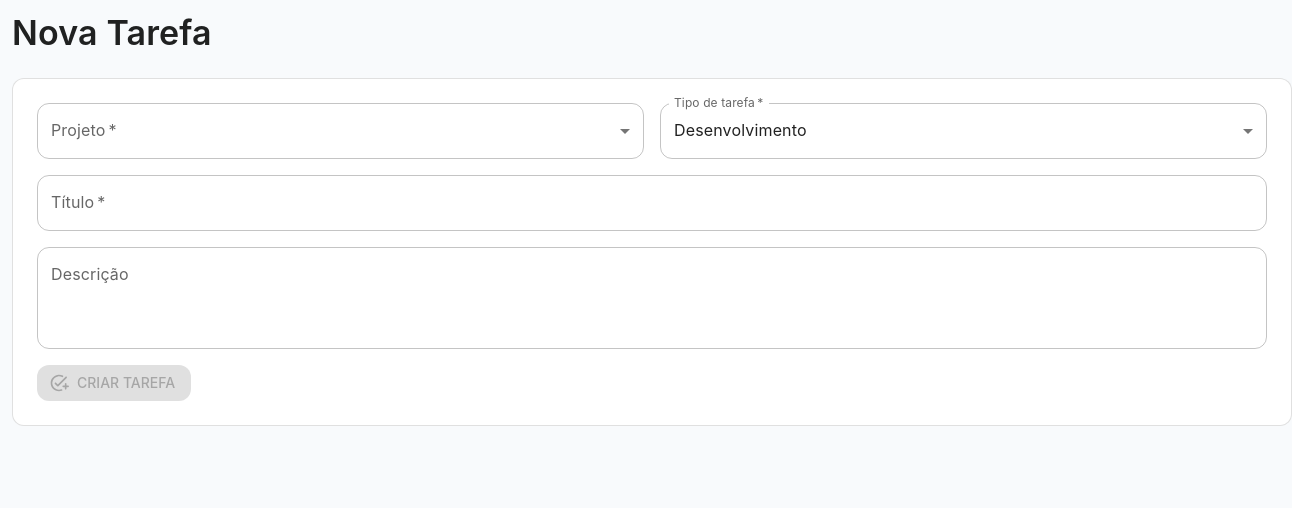
Test: NovaTarefaScreen › exibe erro quando o endpoint interno retorna 404
Click the 1st dropdown: (340, 131) x1=37 y1=103 x2=644 y2=159
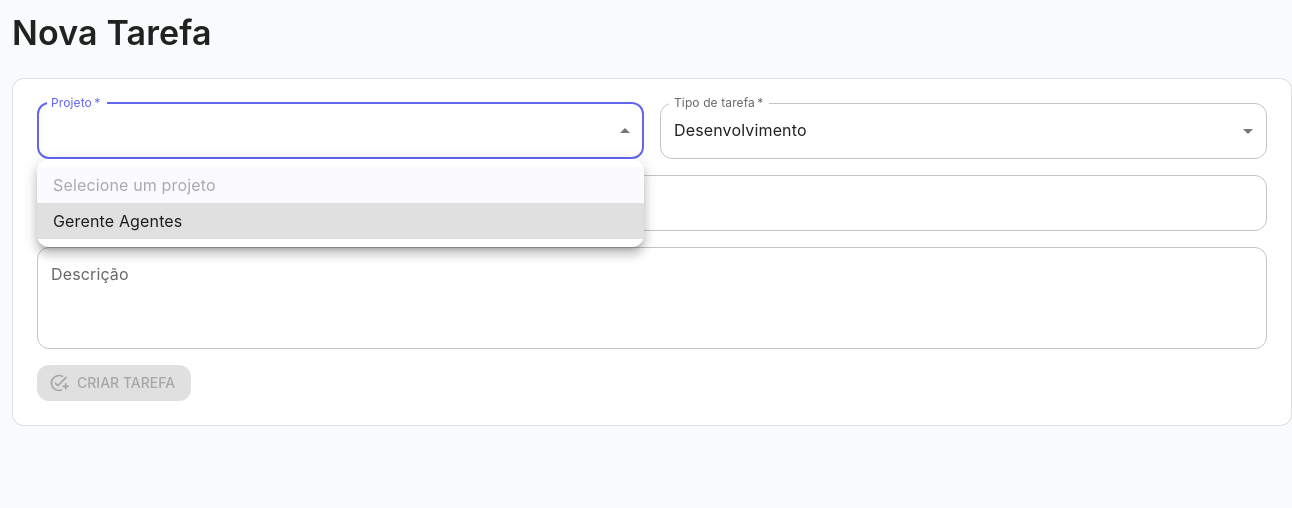
Click the option "Gerente Agentes": (118, 221) x1=37 y1=203 x2=644 y2=239
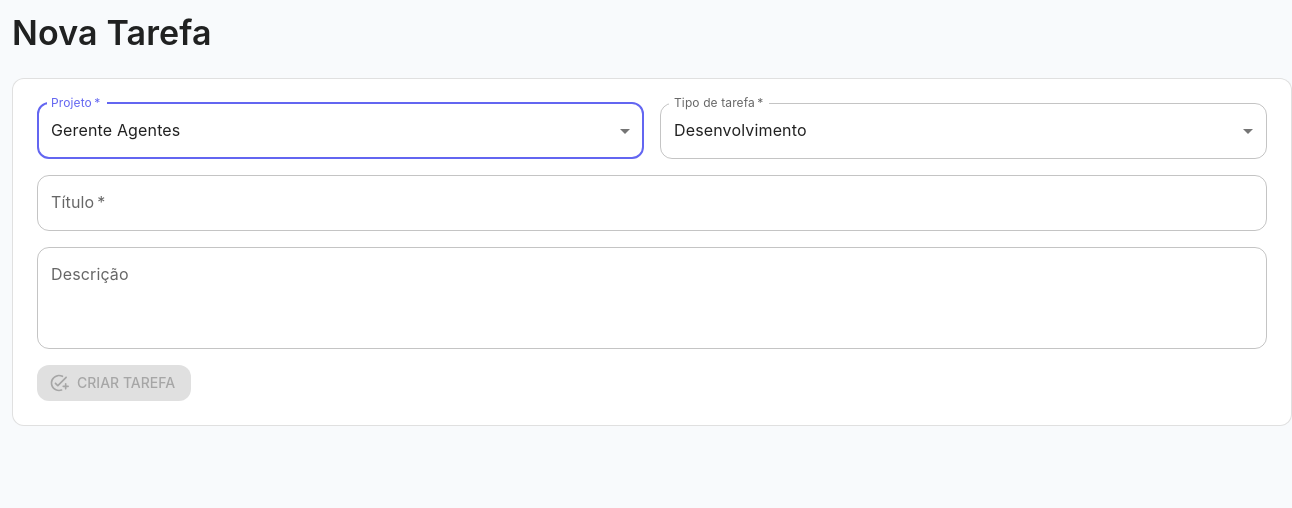
In the field with test id "input-titulo": (652, 203) x1=37 y1=175 x2=1267 y2=231, type "Tarefa de teste"
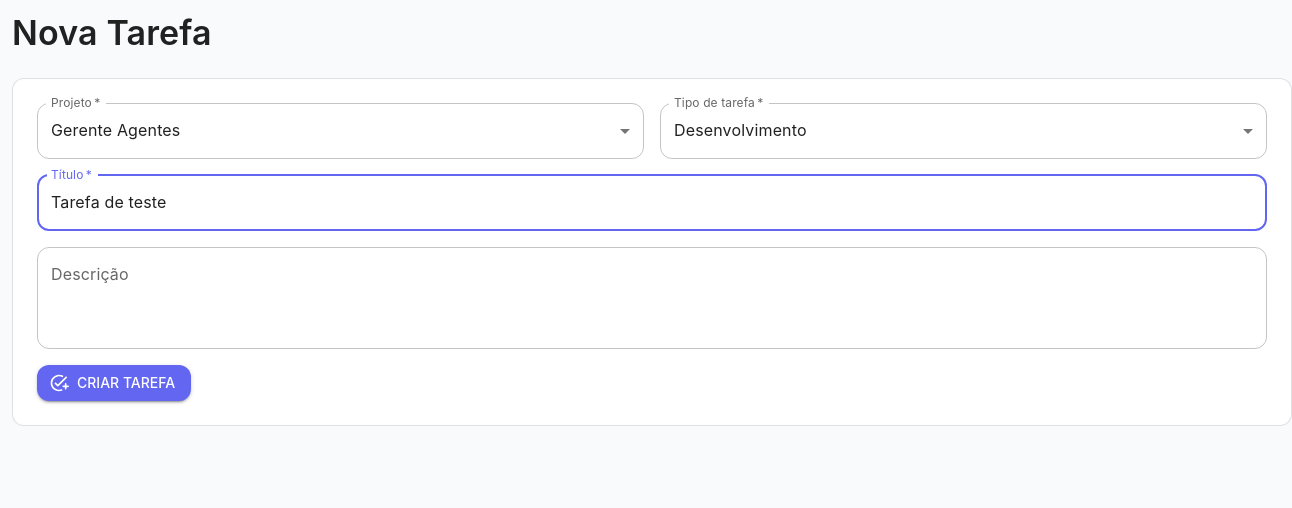
Click the button with test id "btn-enviar": (114, 383) x1=37 y1=365 x2=191 y2=402
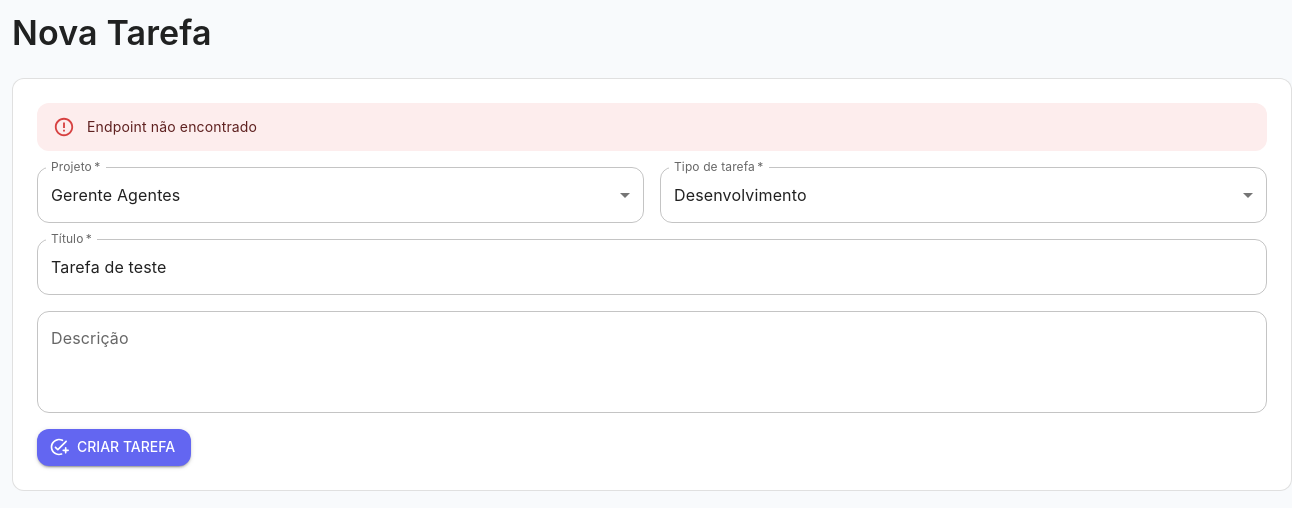
Expected: the message "Endpoint não encontrado" is shown, x1=37 y1=103 x2=1267 y2=151
Expected: the message with test id "api-error" reads "Endpoint não encontrado", x1=87 y1=118 x2=257 y2=135
